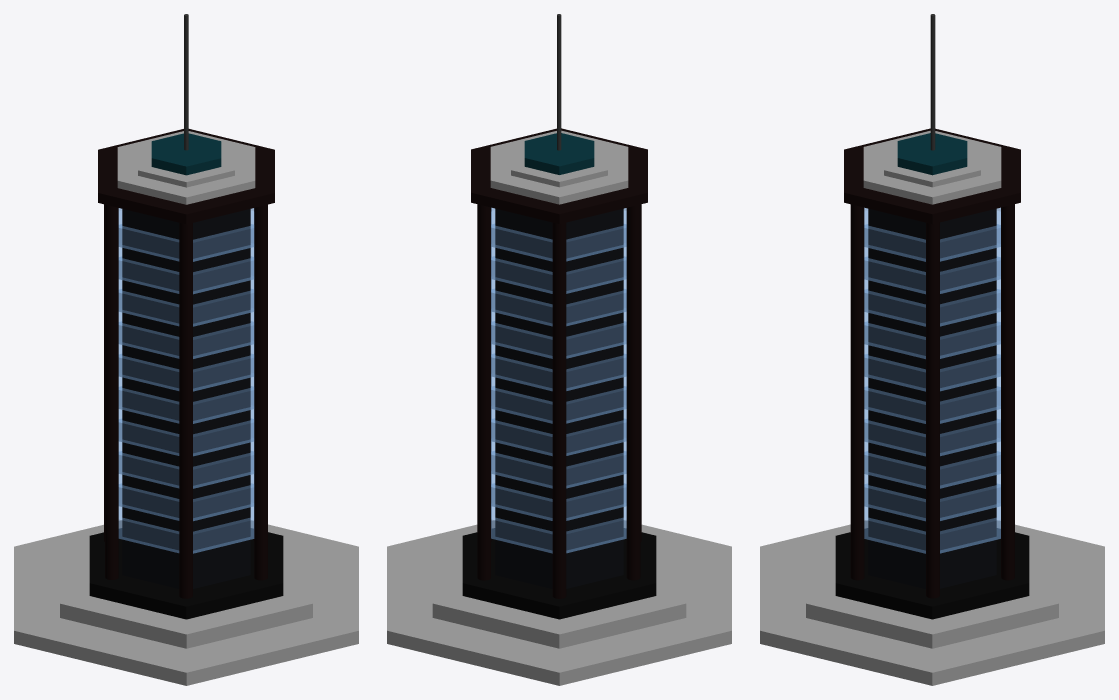
The model's file is AngleBuilding03.fbx.
The picture shows the model from 3 angles, left to right: view 1: azimuth 30°, elevation 25°; view 2: azimuth 150°, elevation 25°; view 3: azimuth 270°, elevation 25°; orthographic projection.
Visible parts, largest first — view 1: AngleBuilding_03; view 2: AngleBuilding_03; view 3: AngleBuilding_03.
Part boxes in pixels (box(x1,y1,x2,y2)): AngleBuilding_03: box(14, 14, 358, 685); AngleBuilding_03: box(387, 14, 731, 685); AngleBuilding_03: box(760, 14, 1104, 685).
Size of the model in its own units: 1669 by 2715 by 1446.
